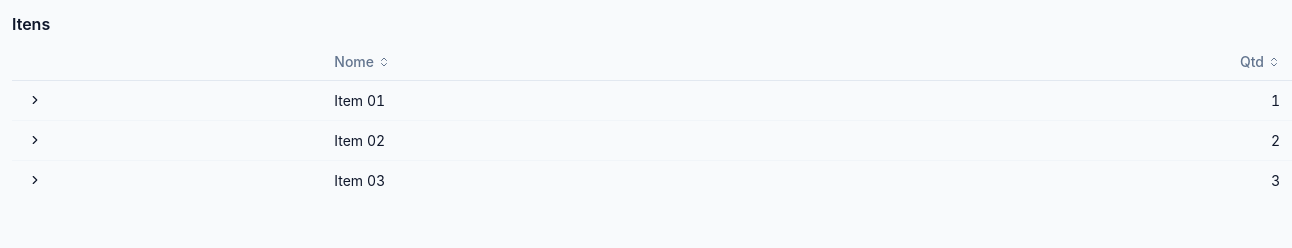
DataTable expandable rows › toggles a detail row with aria-expanded
Click the button named "Expandir detalhes" in the row of "Item 01": (35, 100) [24,89,46,111]
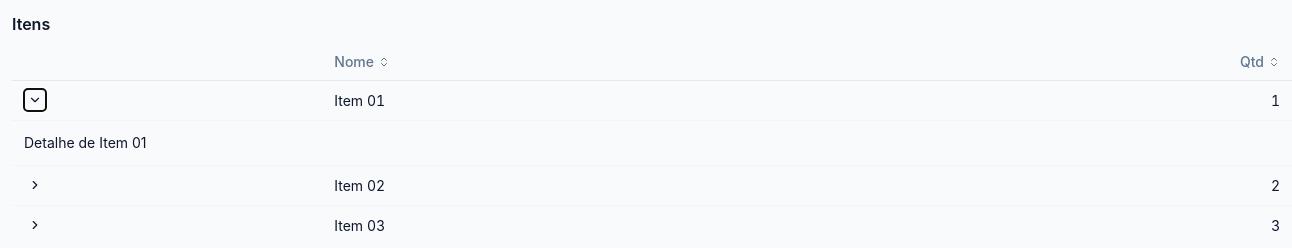
Expected: the text "Detalhe de Item 01" is shown, [24,134,146,151]
Expected: the button named "Recolher detalhes" is expanded
Click the button named "Recolher detalhes": (35, 100) [24,89,46,111]
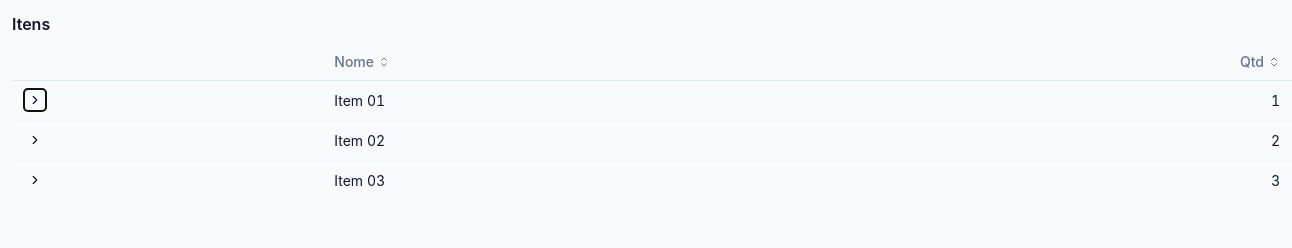
Expected: the text "Detalhe de Item 01" is gone
